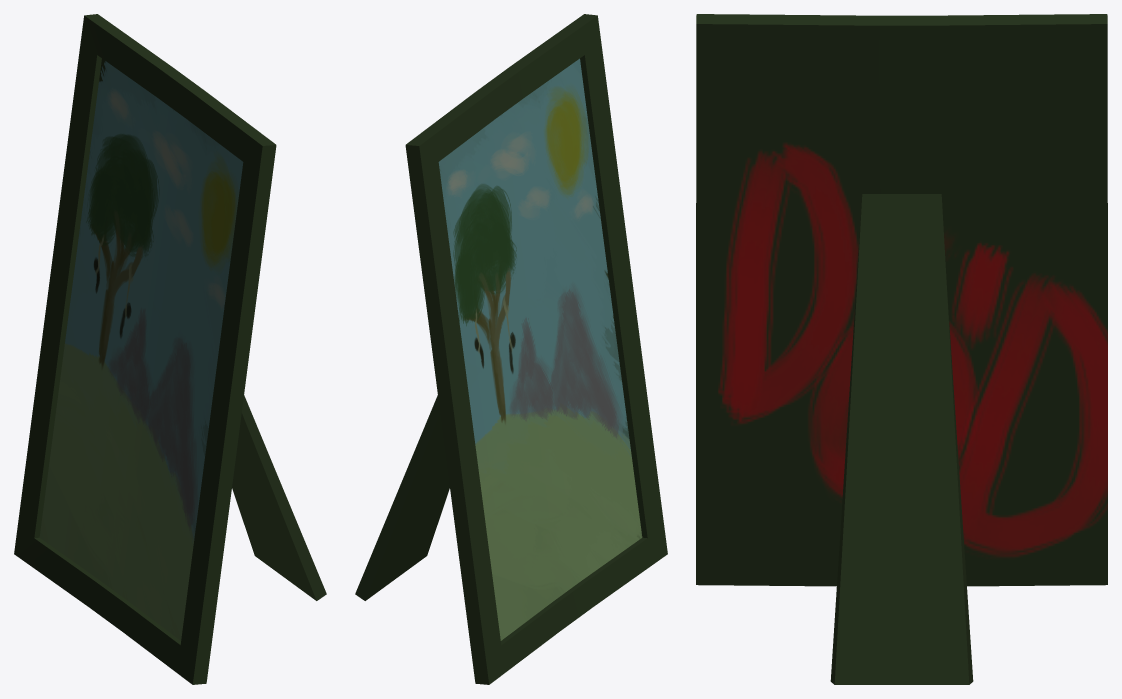
The model's file is Tavla2.fbx.
The picture shows the model from 3 angles, left to right: view 1: azimuth 30°, elevation 25°; view 2: azimuth 150°, elevation 25°; view 3: azimuth 270°, elevation 25°; orthographic projection. The views are drawn at different scales.
Visible parts, largest first — view 1: pCube1; view 2: pCube1; view 3: pCube1.
Part boxes in pixels (x1,y1,x2,y2): pCube1: (14,14,326,684); pCube1: (355,14,667,684); pCube1: (696,14,1107,684).
Size of the model in its own units: 2.63 by 6.79 by 4.19.
1 material, 1 textured.
